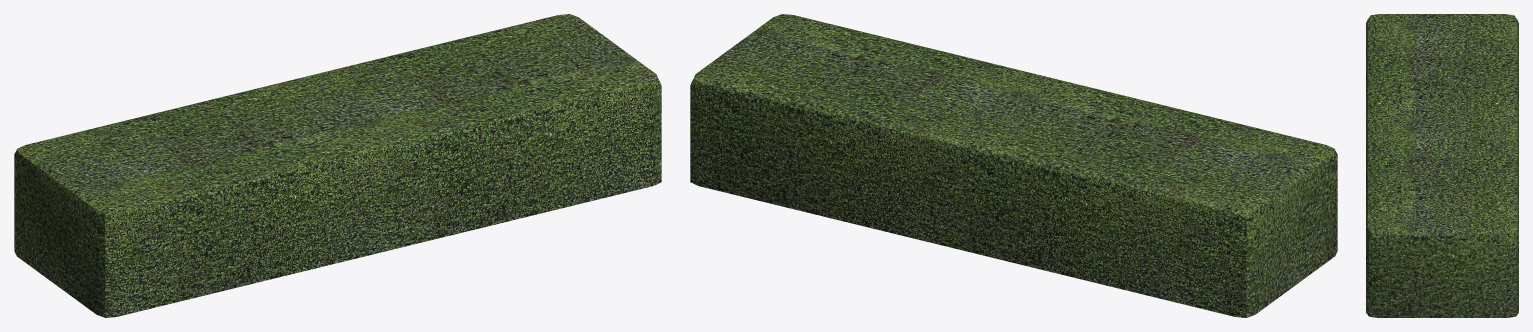
File: Bush_Rec_01.FBX
3 views of the same model, side by side, from view 1: azimuth 30°, elevation 25°; view 2: azimuth 150°, elevation 25°; view 3: azimuth 270°, elevation 25° (orthographic). The views are drawn at different scales.
Visible parts, largest first — view 1: Bush_Rec_01; view 2: Bush_Rec_01; view 3: Bush_Rec_01.
Boxes of the visible parts, x1,y1,x2,y2 form: Bush_Rec_01: (14, 14, 661, 317); Bush_Rec_01: (690, 14, 1337, 317); Bush_Rec_01: (1366, 14, 1518, 317).
Size of the model in its own units: 1357 by 242 by 395.
